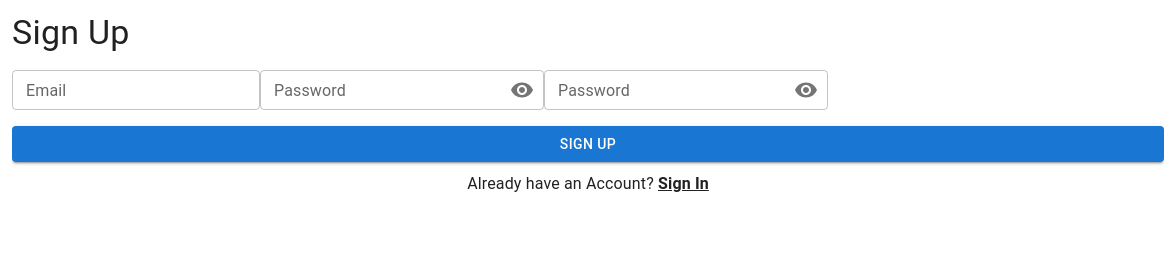
Test: SignUp › displays "All fields are required." error message when attempting to sign in with one or more blank input(s)
The width and height of the screenshot is (1176, 274).
What coordinates should you click on to do the following:
click the button with test id "sign-up-button"
I would click on:
 (588, 144)
Its box is [12, 126, 1164, 162].
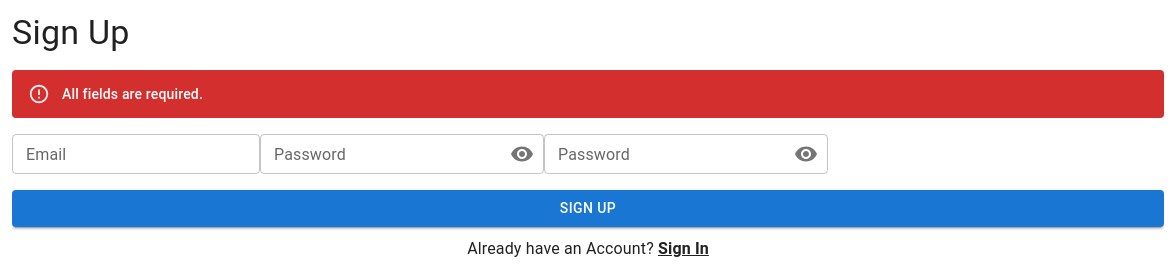
Now the text "All fields are required." is shown, box [62, 86, 203, 102]
